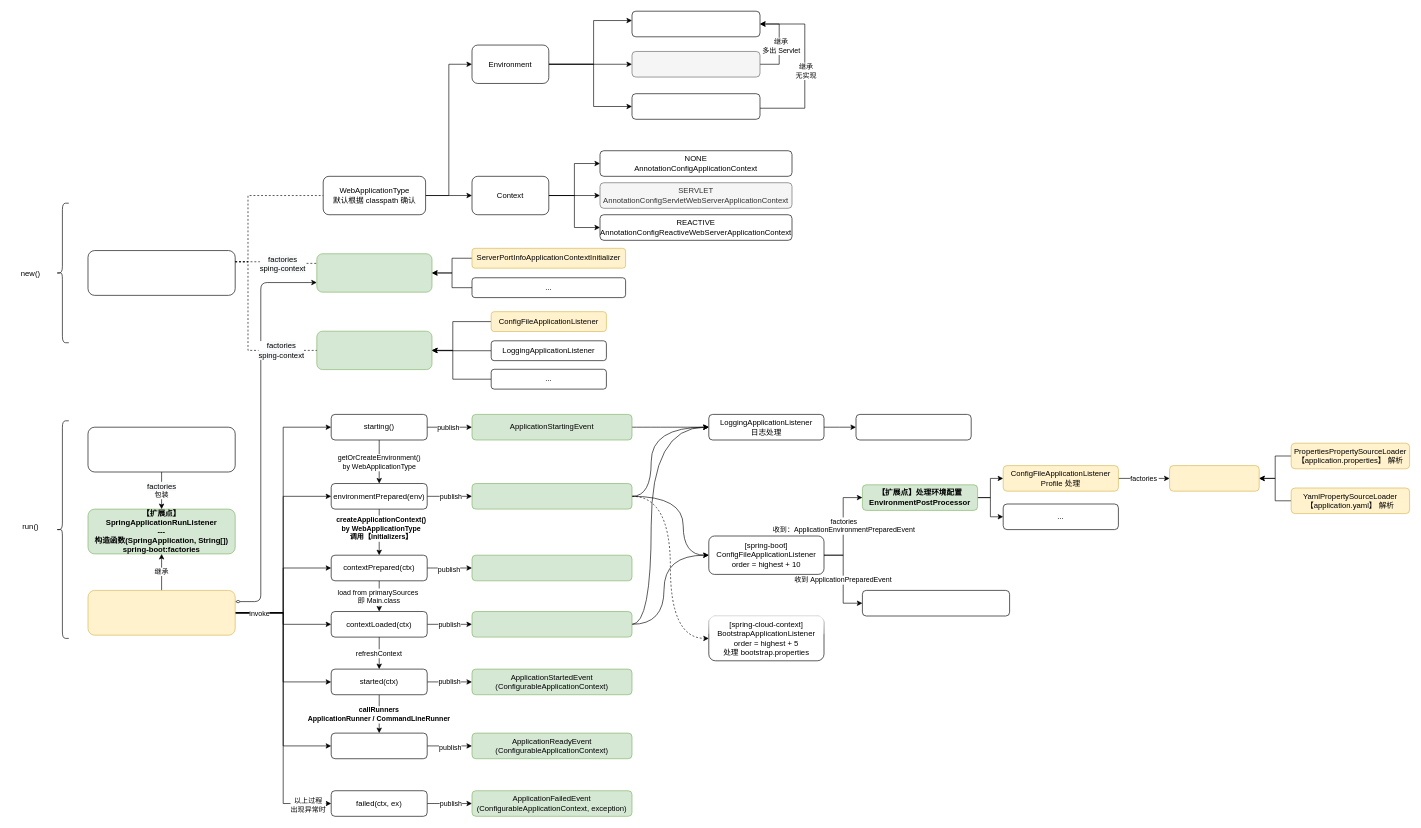
Some shapes in this 1421 by 828 pixel diagram are drawn without their labels. Here are the shapes that lost their labels. From the top down, the centre of each, then its label:
At (x=695, y=24): "NONE StandardEnvironment".
At (x=695, y=64): "SERVLET StandardServletEnvironment".
At (x=695, y=106): "REACTIVE StandardReactiveWebEnvironment".
At (x=161, y=272): "SpringApplication(....)".
At (x=374, y=272): "【扩展点】 initializers = ApplicationContextInitializer (ctx)".
At (x=374, y=350): "【扩展点】 listeners = ApplicationListener (event)".
At (x=913, y=427): "LoggingSystem".
At (x=161, y=449): "SpringApplicationRunListeners".
At (x=551, y=496): "ApplicationEnvironmentPreparedEvent (ConfigurableEnvironment)".
At (x=1214, y=478): "PropertySourceLoader 处理配置文件".
At (x=551, y=568): "ApplicationContextInitializedEvent (ConfigurableApplicationContext)".
At (x=161, y=612): "EventPublishingRunListener".
At (x=936, y=603): "PropertySourceOrderingPostProcessor".
At (x=551, y=624): "ApplicationPreparedEvent (ConfigurableApplicationContext)".
At (x=379, y=745): "running(ctx)".
